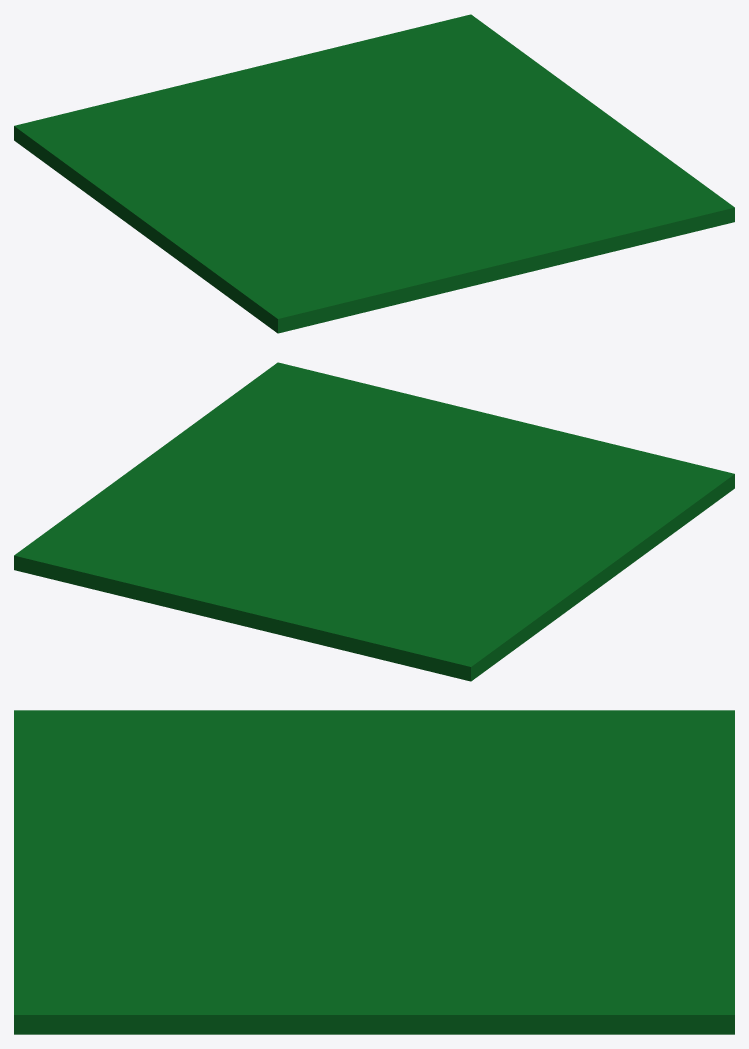
The model's file is Grass Block.fbx.
The picture shows the model from 3 angles, top to bottom: view 1: azimuth 30°, elevation 25°; view 2: azimuth 150°, elevation 25°; view 3: azimuth 270°, elevation 25°; orthographic projection. The views are drawn at different scales.
Parts seen in each view (by area): view 1: Flooring Type Square, Flooring Type Corner, Flooring Type Curve; view 2: Flooring Type Corner, Flooring Type Square, Flooring Type Curve; view 3: Flooring Type Square, Flooring Type Corner, Flooring Type Curve.
Part boxes in pixels (left/top/right/bottom): Flooring Type Square: left=14, top=14, right=734, bottom=333; Flooring Type Corner: left=14, top=91, right=734, bottom=332; Flooring Type Curve: left=20, top=14, right=731, bottom=205; Flooring Type Corner: left=194, top=363, right=734, bottom=680; Flooring Type Square: left=14, top=362, right=734, bottom=681; Flooring Type Curve: left=14, top=364, right=470, bottom=681; Flooring Type Square: left=14, top=710, right=734, bottom=1034; Flooring Type Corner: left=14, top=710, right=732, bottom=1014; Flooring Type Curve: left=14, top=712, right=734, bottom=1034.
Bounding box in the file's own units: 400 × 12.18 × 400.
